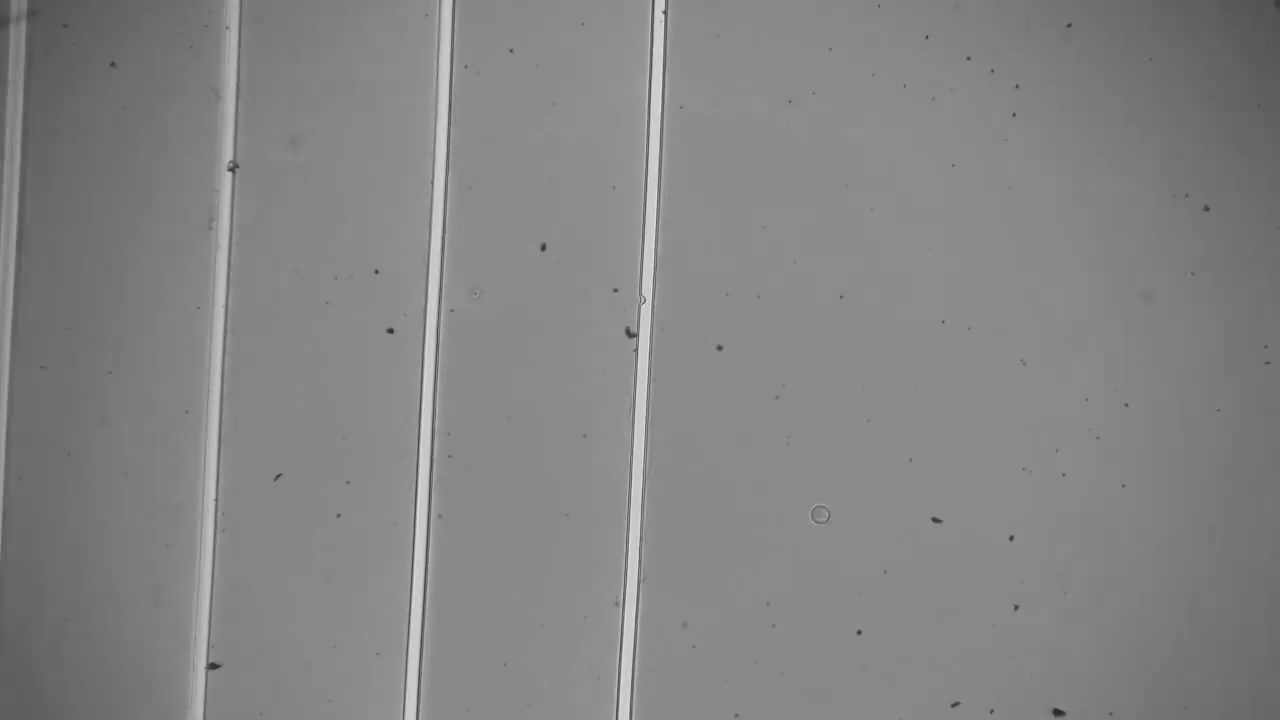edge_bite: (636, 288, 659, 309)
stains_enbedded: (210, 150, 248, 181)
